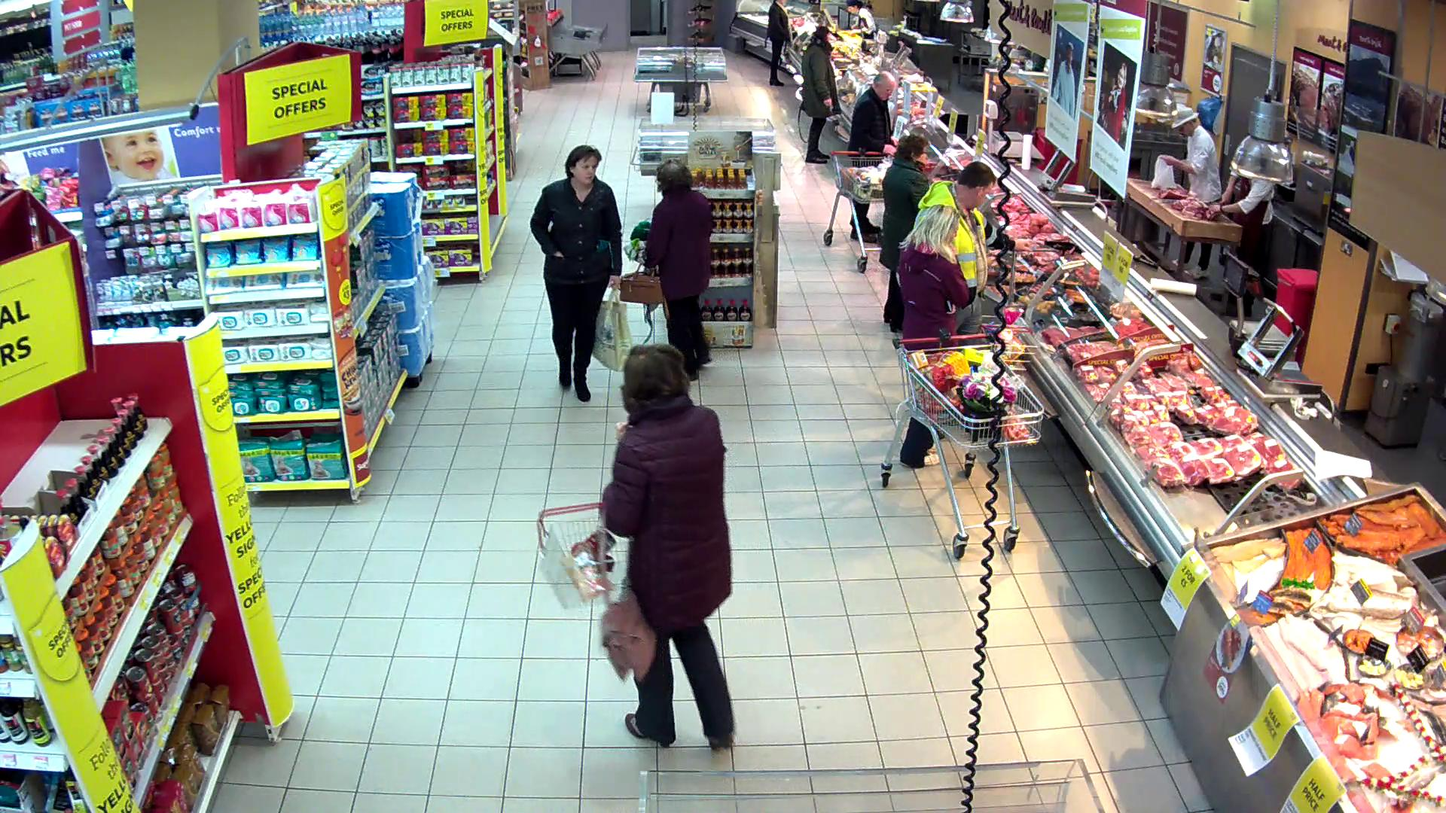backpack-or-handbag: (593, 590, 660, 683), (620, 267, 664, 305)
filled-basket: (533, 501, 635, 608)
filled-shopping-bags: (591, 299, 631, 372)
filled-trolly: (824, 150, 897, 272)
person: (603, 343, 736, 751), (531, 145, 623, 402), (644, 159, 714, 374), (849, 71, 898, 242)
person-with-backpack-handbag: (620, 159, 714, 374)
person-with-basket-trolly-and-backpack-handbag: (533, 343, 737, 750)
person-with-filled-basket-trolly: (824, 70, 897, 271)
person-with-filled-shopping-bag-s-: (531, 145, 631, 403)
